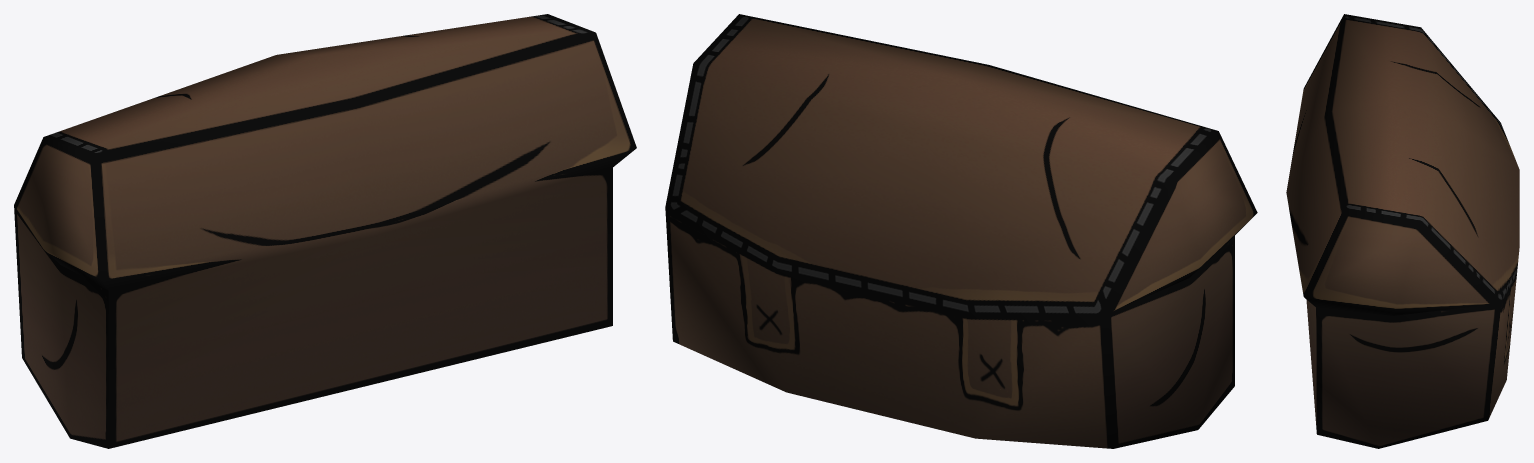
File: mod_mod_bp_pocket02.fbx
3 renders of one model, left to right at view 1: azimuth 30°, elevation 25°; view 2: azimuth 150°, elevation 25°; view 3: azimuth 270°, elevation 25°, orthographic. The views are drawn at different scales.
Visible parts, largest first — view 1: mod_mod_bp_pocket02; view 2: mod_mod_bp_pocket02; view 3: mod_mod_bp_pocket02.
Boxes of the visible parts, x1,y1,x2,y2 form: mod_mod_bp_pocket02: (14,14,636,448); mod_mod_bp_pocket02: (665,14,1257,448); mod_mod_bp_pocket02: (1286,14,1519,448).
Bounding box in the file's own units: 32.12 × 18.8 × 15.17.
